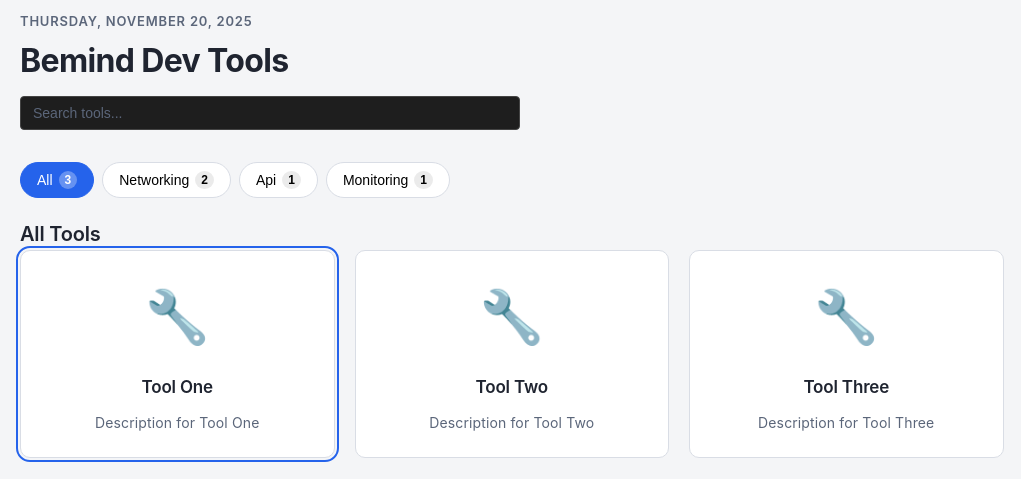
HomePage Component › Category Filter Integration › should filter tools by selected category
Click the button "Networking 2" at (167, 180), box [102,162,231,198]
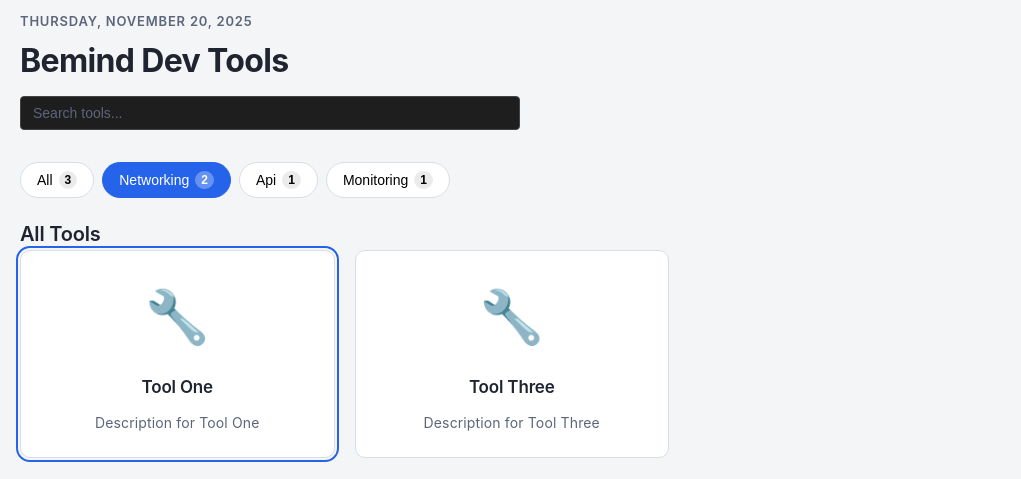
Expected: the heading "Tool One" is shown, [142,376,213,398]
Expected: the button "Tool Two" is gone
